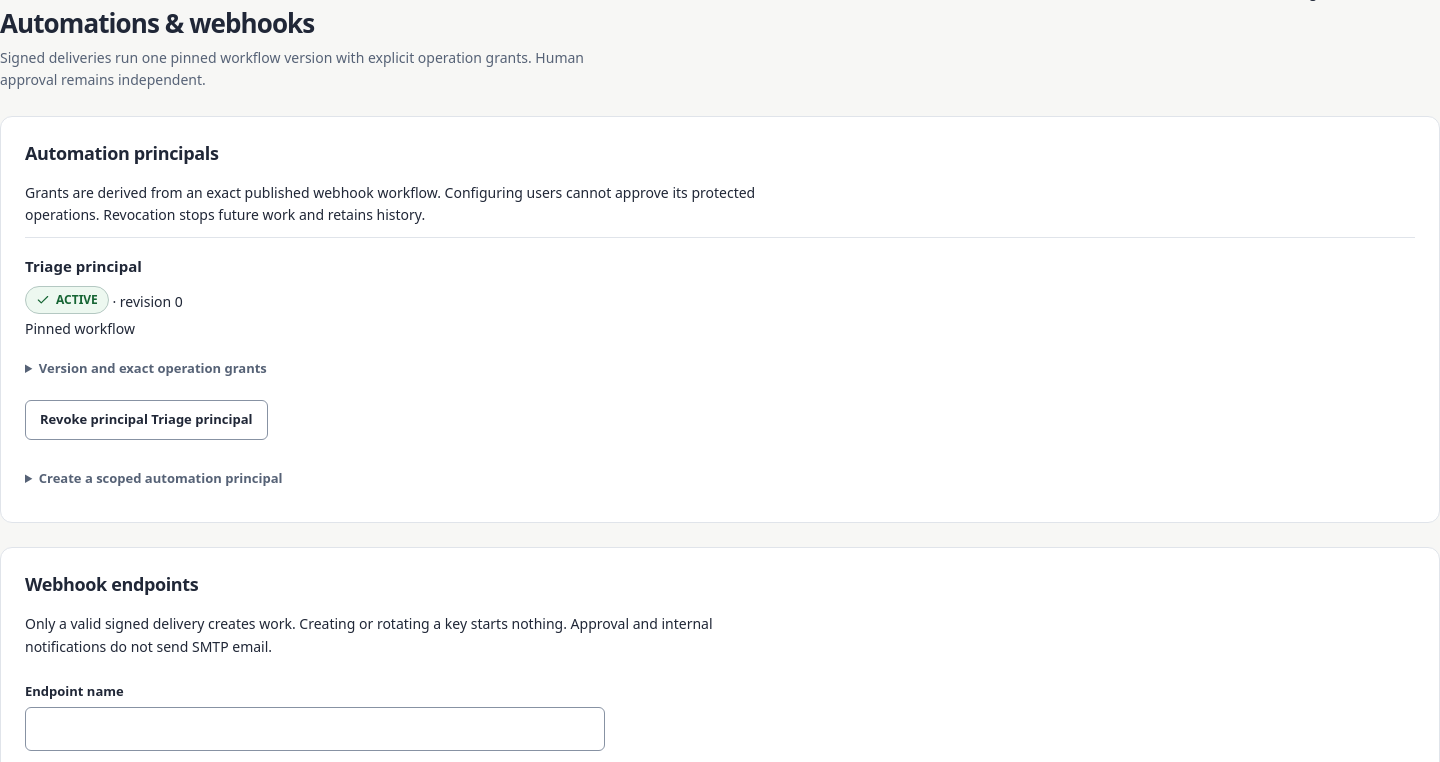
Test case: reveals and copies only the newly generated key on request
The width and height of the screenshot is (1440, 762).
Type "New endpoint" into the field labelled "Endpoint name". click: [315, 730]
box: x1=25 y1=708 x2=605 y2=752
(page scrolled)
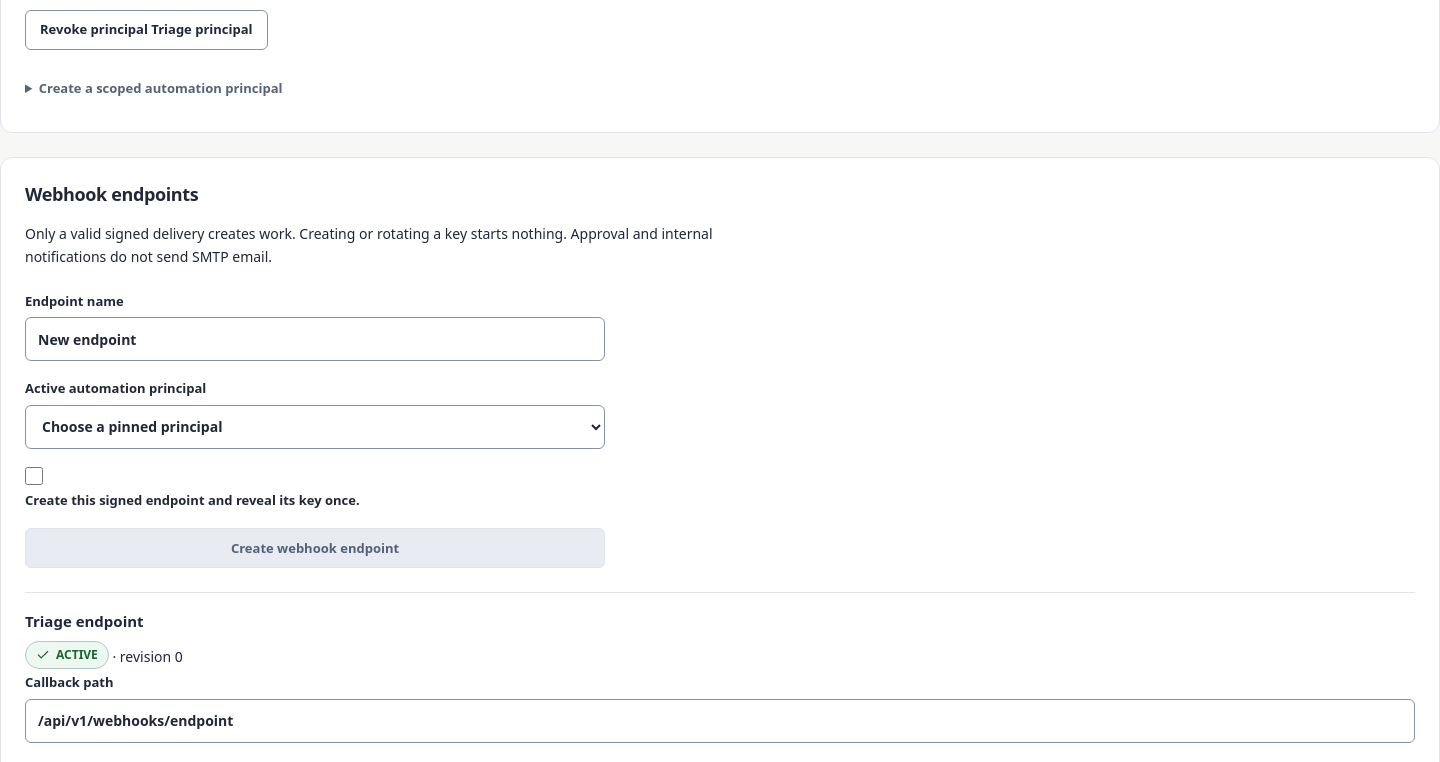
Select "Triage principal" in the dropdown labelled "Active automation principal". click: [315, 427]
box: x1=25 y1=405 x2=605 y2=449
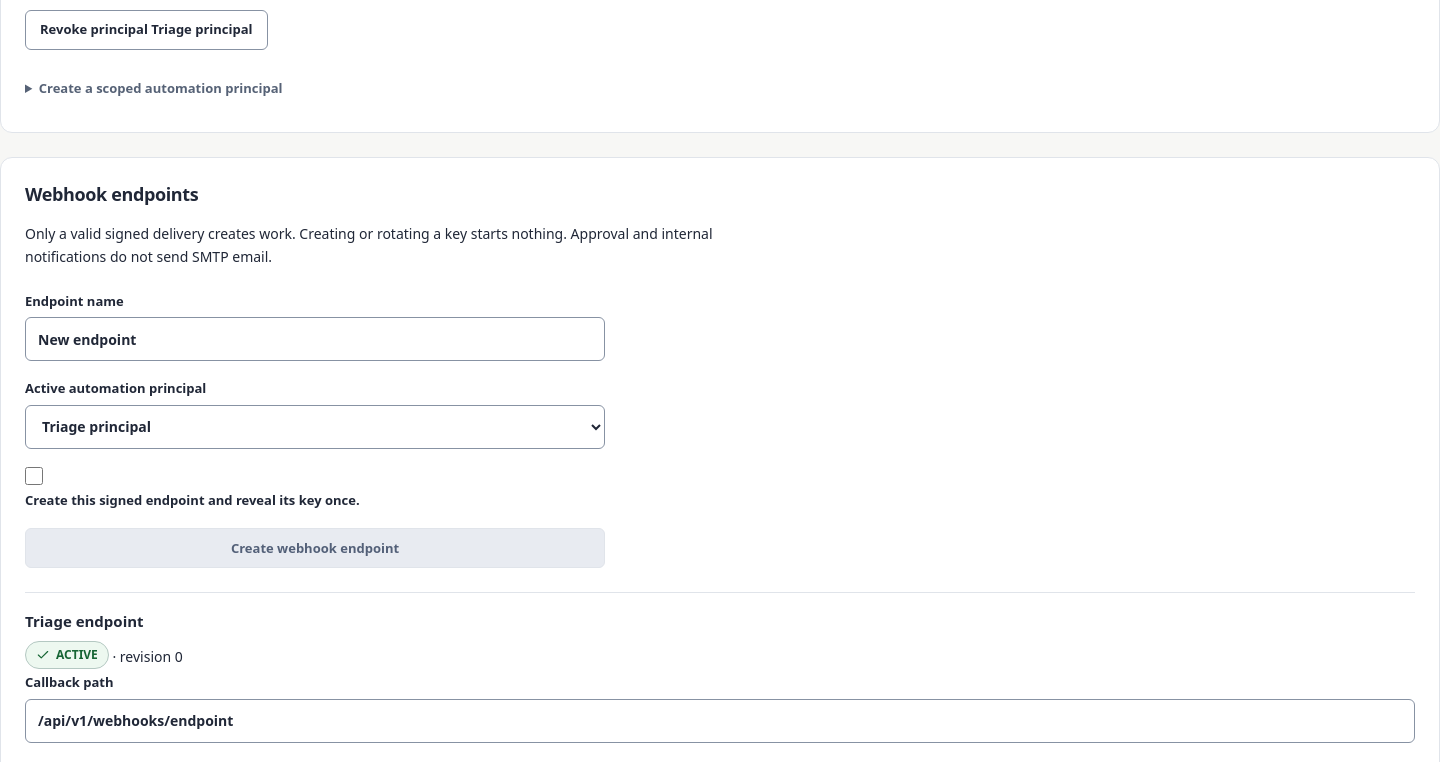
Click the checkbox labelled "Create this signed endpoint and reveal its key once.". click: [34, 476]
box: x1=25 y1=467 x2=43 y2=485
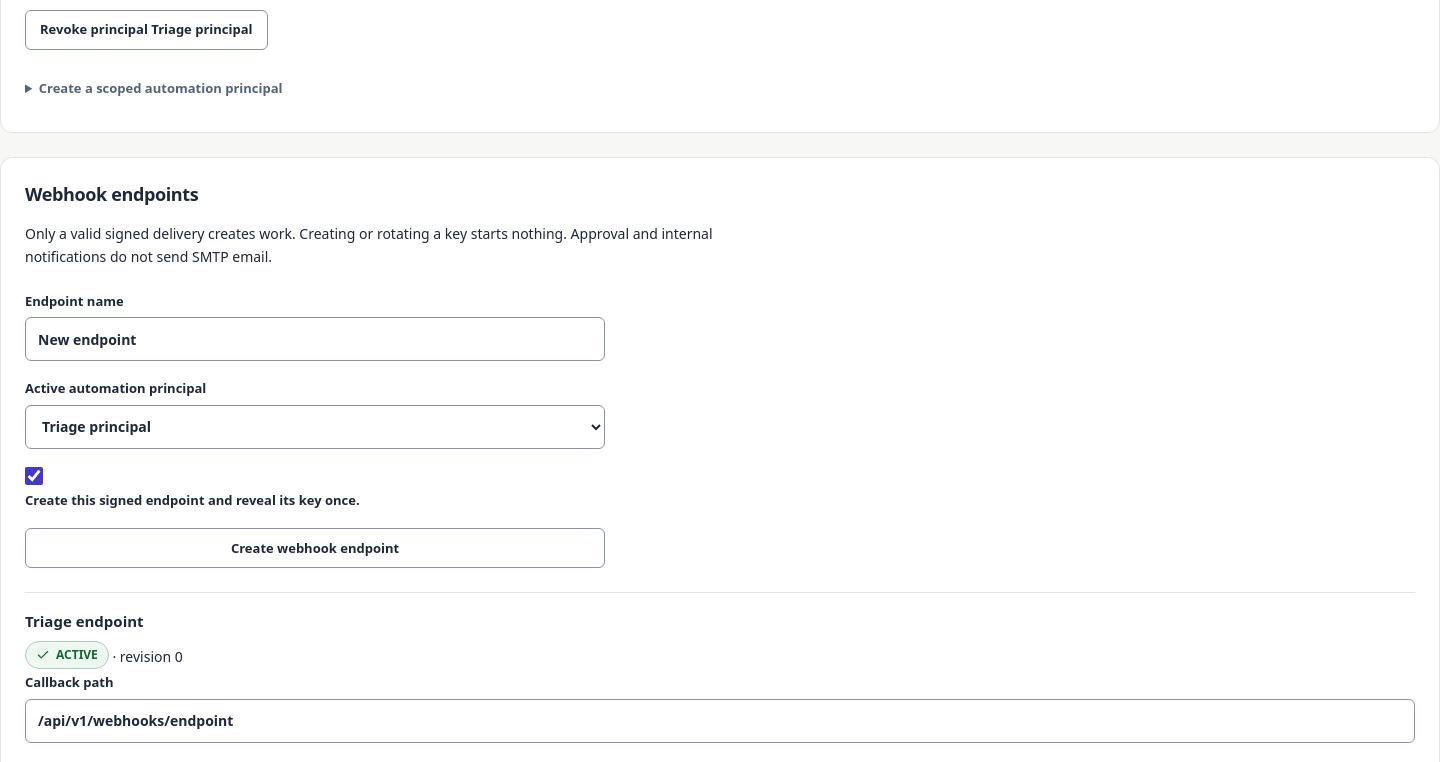
Click the button "Create webhook endpoint". click: [315, 548]
box: x1=25 y1=528 x2=605 y2=568
(page scrolled)
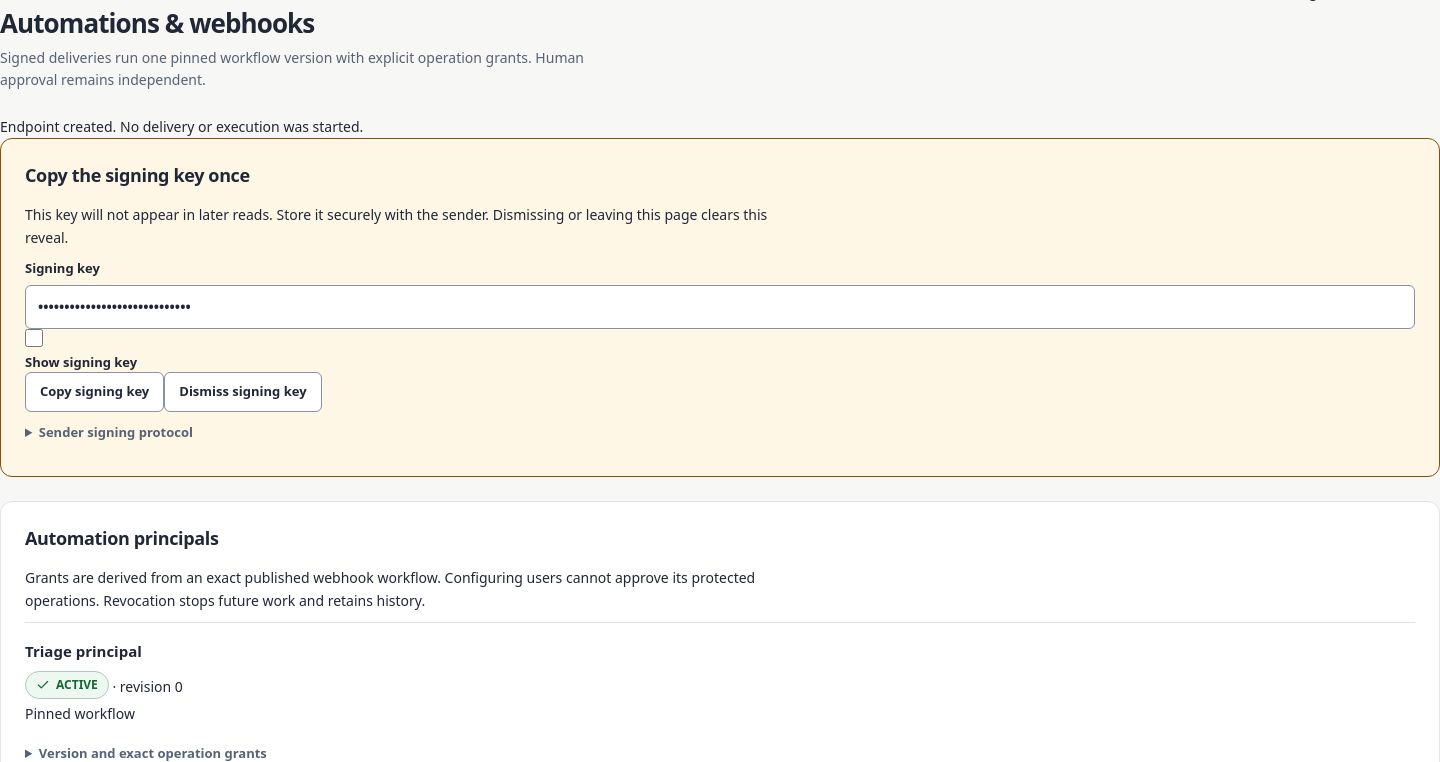
expect the password field labelled "Signing key" is shown: met, box x1=25 y1=285 x2=1415 y2=329
Click the checkbox labelled "Show signing key". click: [34, 338]
box: x1=25 y1=329 x2=43 y2=347
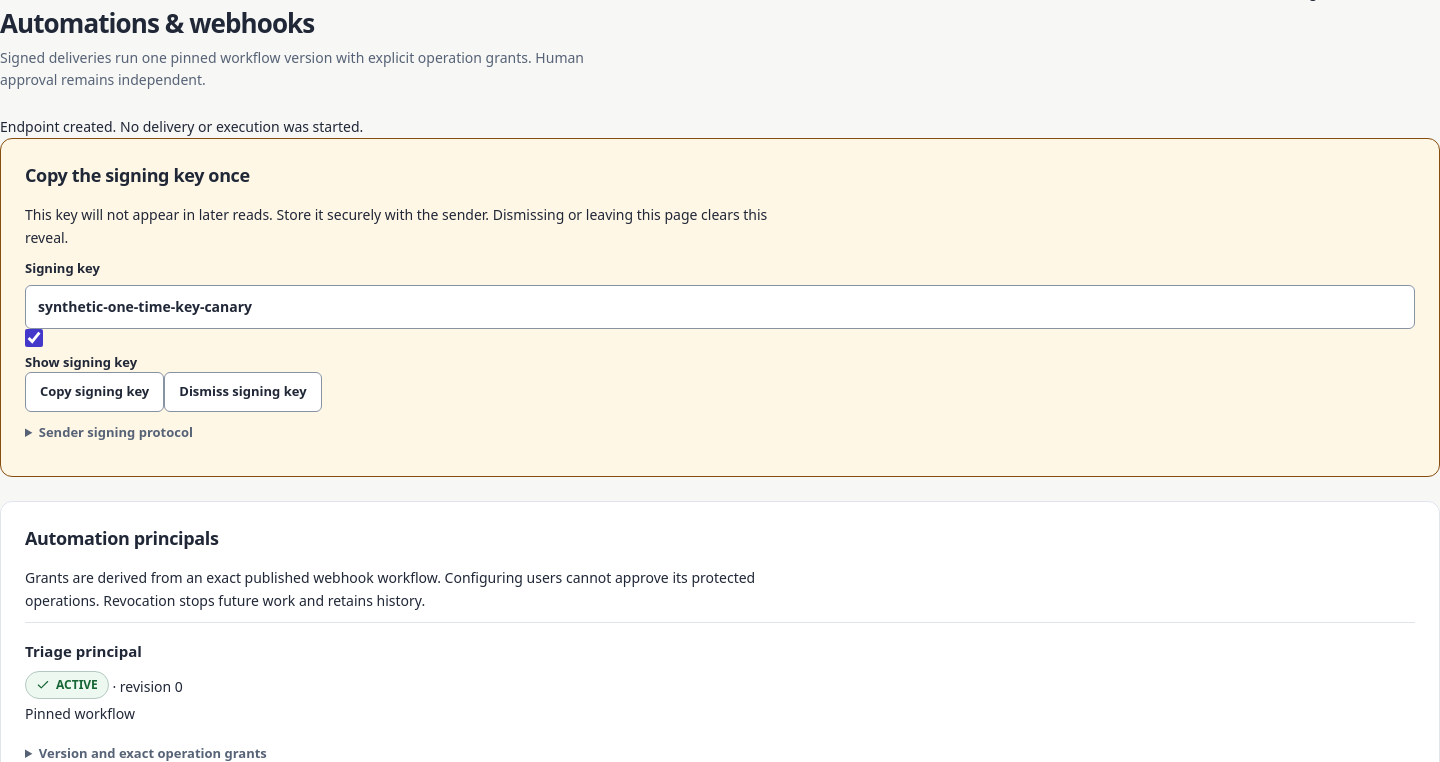
expect the field labelled "Signing key" shows its text: met, box x1=25 y1=285 x2=1415 y2=329
Click the button "Copy signing key". click: [95, 392]
box: x1=25 y1=372 x2=164 y2=412
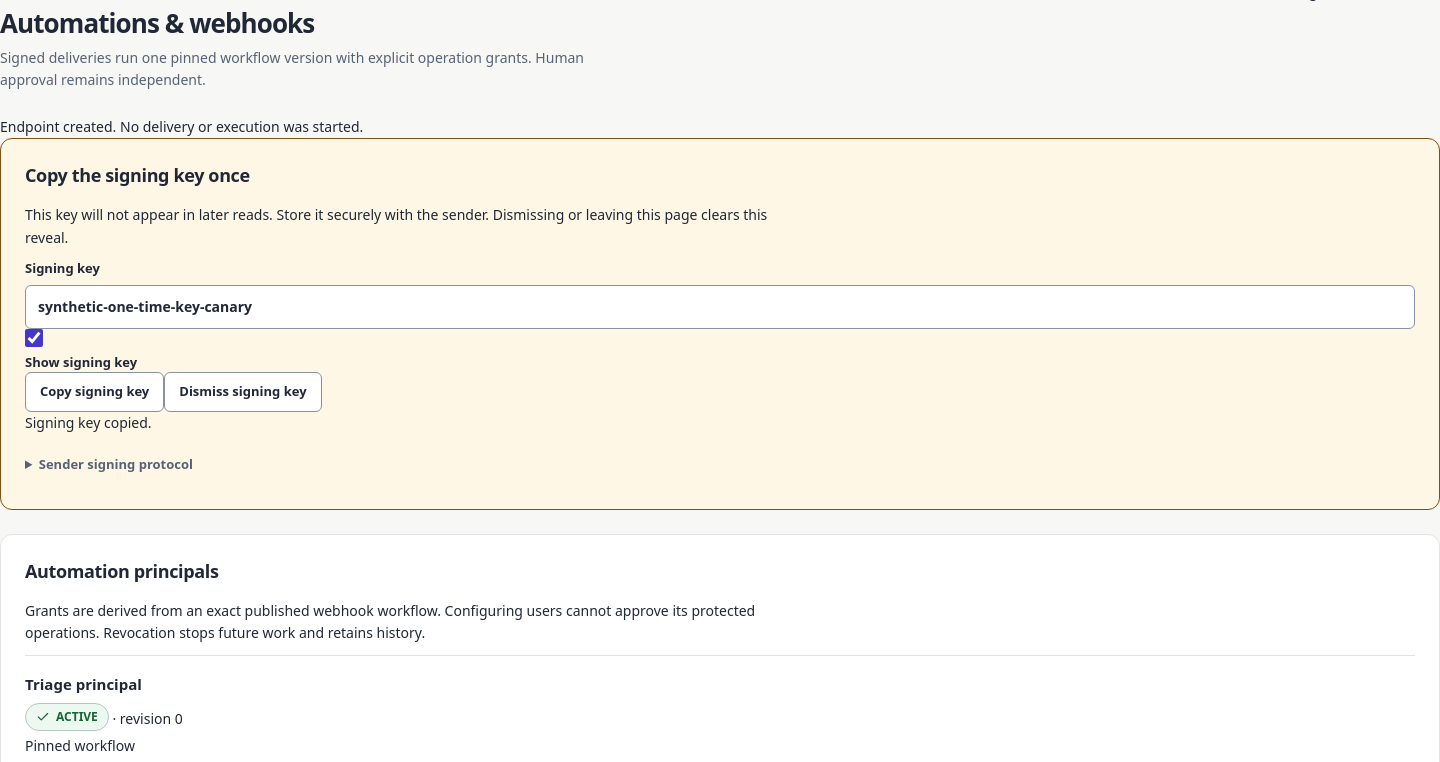
expect the text "Signing key copied." is shown: met, box x1=25 y1=413 x2=152 y2=432
